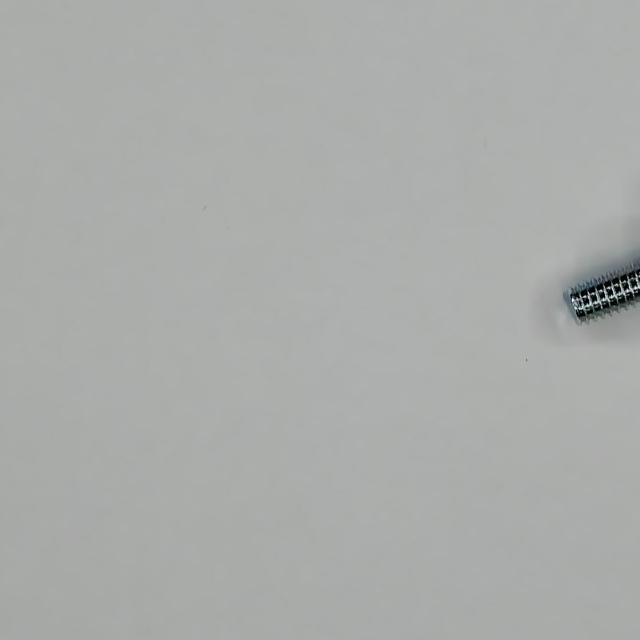Screw: (566, 261, 640, 322)
